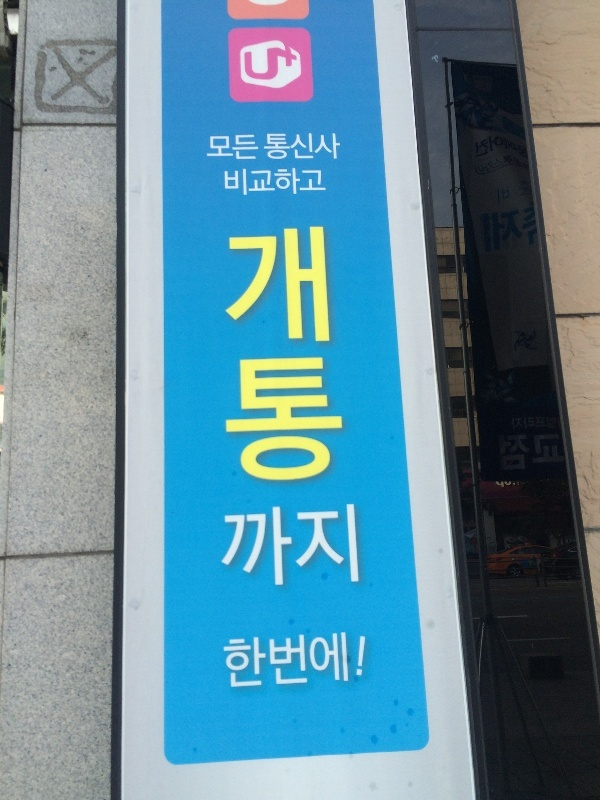text: (241, 221, 256, 489), (257, 221, 272, 489), (273, 221, 288, 489), (289, 221, 304, 489), (305, 221, 320, 489), (321, 221, 336, 489), (229, 221, 240, 489), (337, 221, 348, 489), (481, 135, 496, 260), (497, 135, 512, 260), (513, 135, 528, 260), (225, 502, 240, 589), (241, 502, 256, 589), (257, 502, 272, 589), (273, 502, 288, 589), (289, 502, 304, 589), (305, 502, 320, 589), (321, 502, 336, 589), (337, 502, 352, 589), (529, 135, 539, 260), (513, 414, 528, 478), (529, 414, 544, 478), (545, 414, 560, 478), (225, 631, 240, 694), (241, 631, 256, 694), (257, 631, 272, 694), (273, 631, 288, 694), (289, 631, 304, 694), (305, 631, 320, 694), (321, 631, 336, 694), (337, 631, 352, 694), (499, 414, 512, 478), (353, 631, 366, 694), (353, 502, 360, 589), (476, 135, 480, 260), (225, 167, 240, 198), (241, 167, 256, 198), (257, 167, 272, 198), (273, 167, 288, 198), (289, 167, 304, 198), (305, 167, 320, 198), (225, 132, 240, 163), (241, 132, 256, 163), (257, 132, 272, 163), (273, 132, 288, 163), (289, 132, 304, 163), (305, 132, 320, 163), (321, 132, 336, 163), (210, 132, 224, 163), (561, 414, 566, 478), (321, 167, 327, 198), (337, 132, 341, 163), (223, 502, 224, 589), (223, 631, 224, 694)
